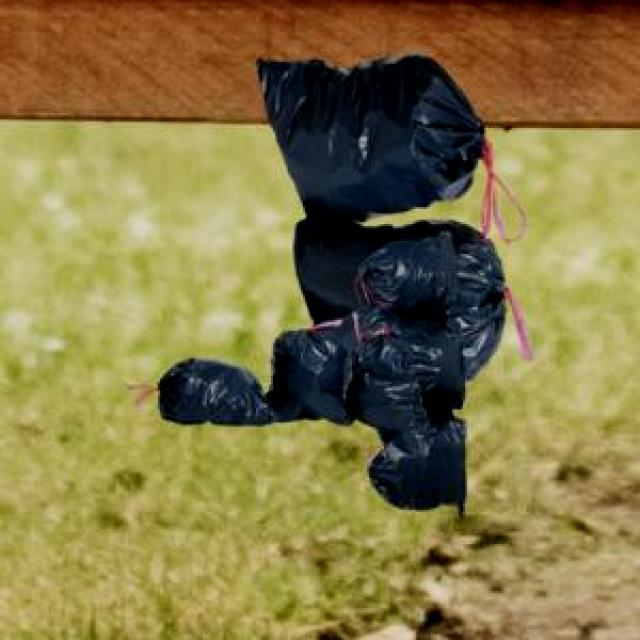Trashbag: (255, 37, 481, 219), (258, 319, 351, 426), (368, 425, 468, 513), (359, 235, 460, 319), (344, 333, 418, 434), (162, 352, 264, 424)
